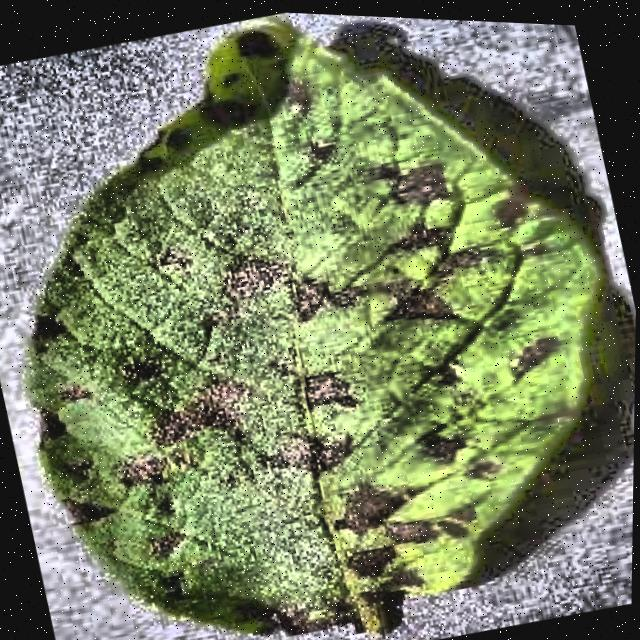Potato_leaf_early_blight: (26, 17, 593, 632)
